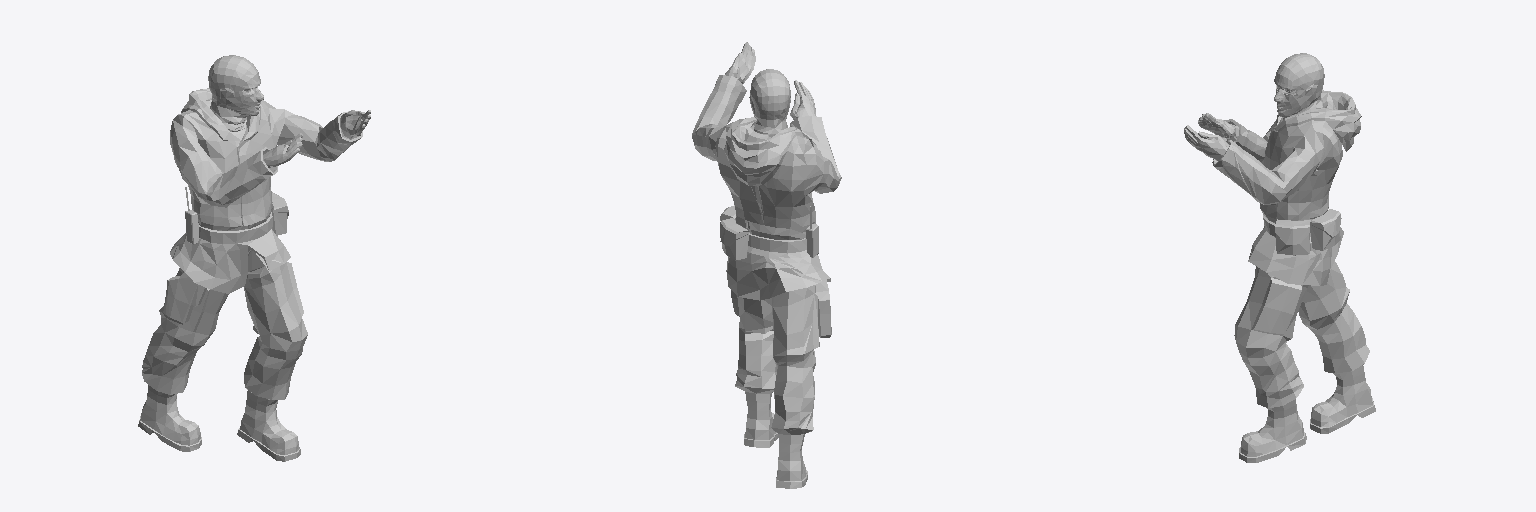
Rendered from terrorist.obj.
The picture shows the model from 3 angles: view 1: azimuth 30°, elevation 25°; view 2: azimuth 150°, elevation 25°; view 3: azimuth 270°, elevation 25°; orthographic projection.
Visible parts, largest first — view 1: 24_mesh0_0.3_0_0.001; view 2: 24_mesh0_0.3_0_0.001; view 3: 24_mesh0_0.3_0_0.001.
Boxes of the visible parts, x1,y1,x2,y2 form: 24_mesh0_0.3_0_0.001: [138, 55, 370, 461]; 24_mesh0_0.3_0_0.001: [692, 42, 841, 488]; 24_mesh0_0.3_0_0.001: [1184, 53, 1375, 462].
Size of the model in its own units: 0.6084 by 1.43 by 0.6441.